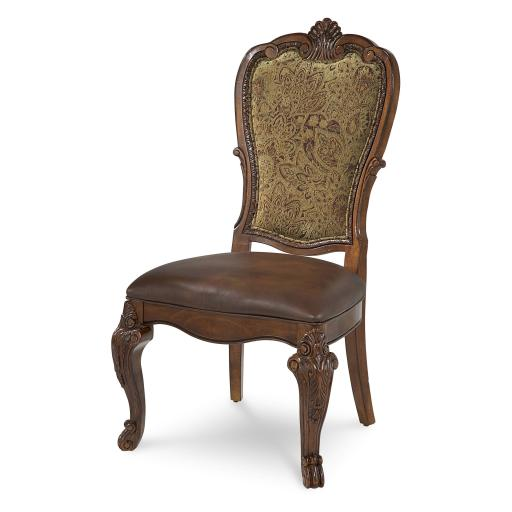chair: (110, 16, 402, 490)
